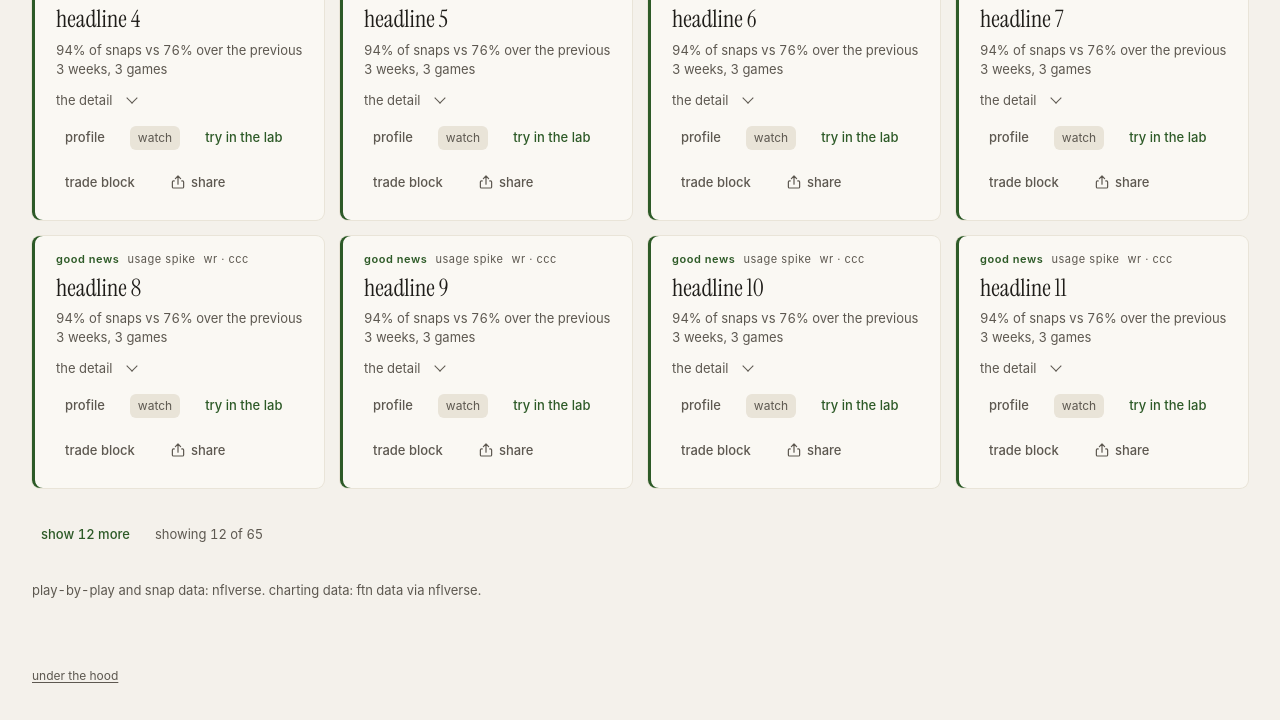
Test: a long feed › draws 12 cards and grows on request, keeping the engine’s order
(page scrolled)
Expected: the text "showing 12 of 65" is shown, [155, 525, 263, 544]
Click the button "show 12 more".
click(85, 535)  # box [32, 520, 139, 549]
(page scrolled)
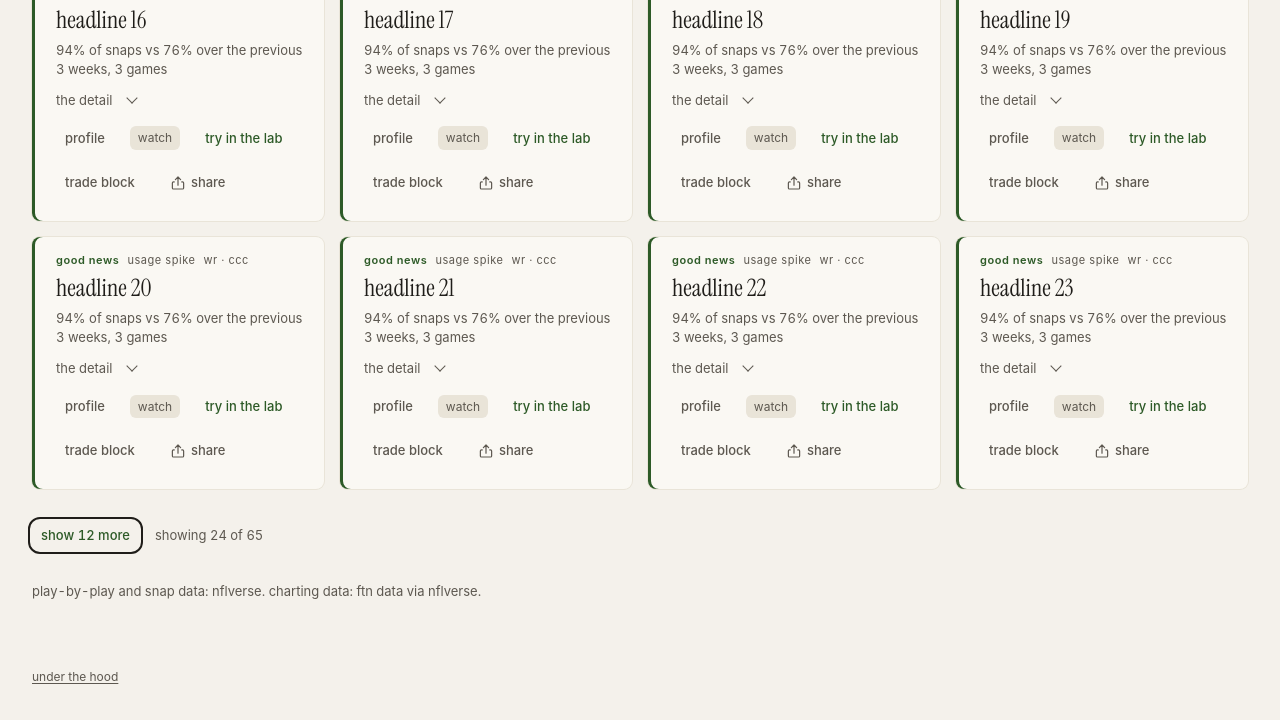
Click the button "show 12 more".
click(85, 535)  # box [32, 521, 139, 550]
(page scrolled)
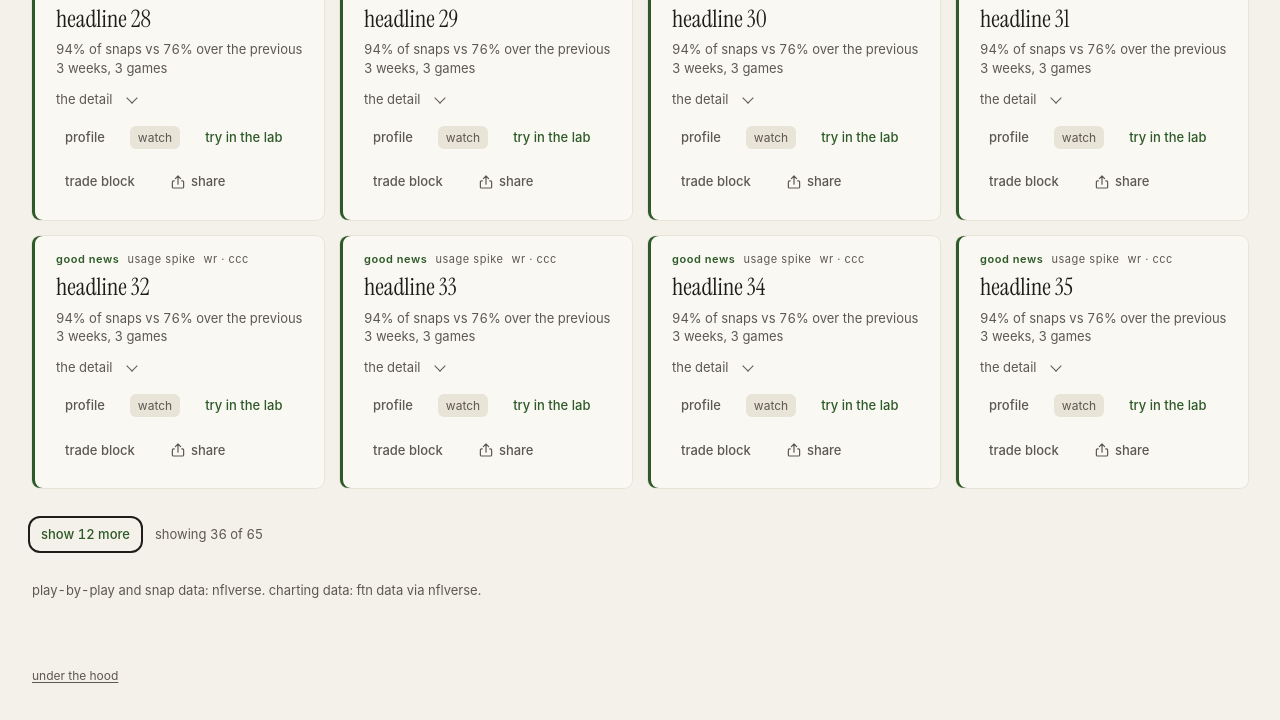
Click the button "show 12 more".
click(85, 534)  # box [32, 520, 139, 549]
(page scrolled)
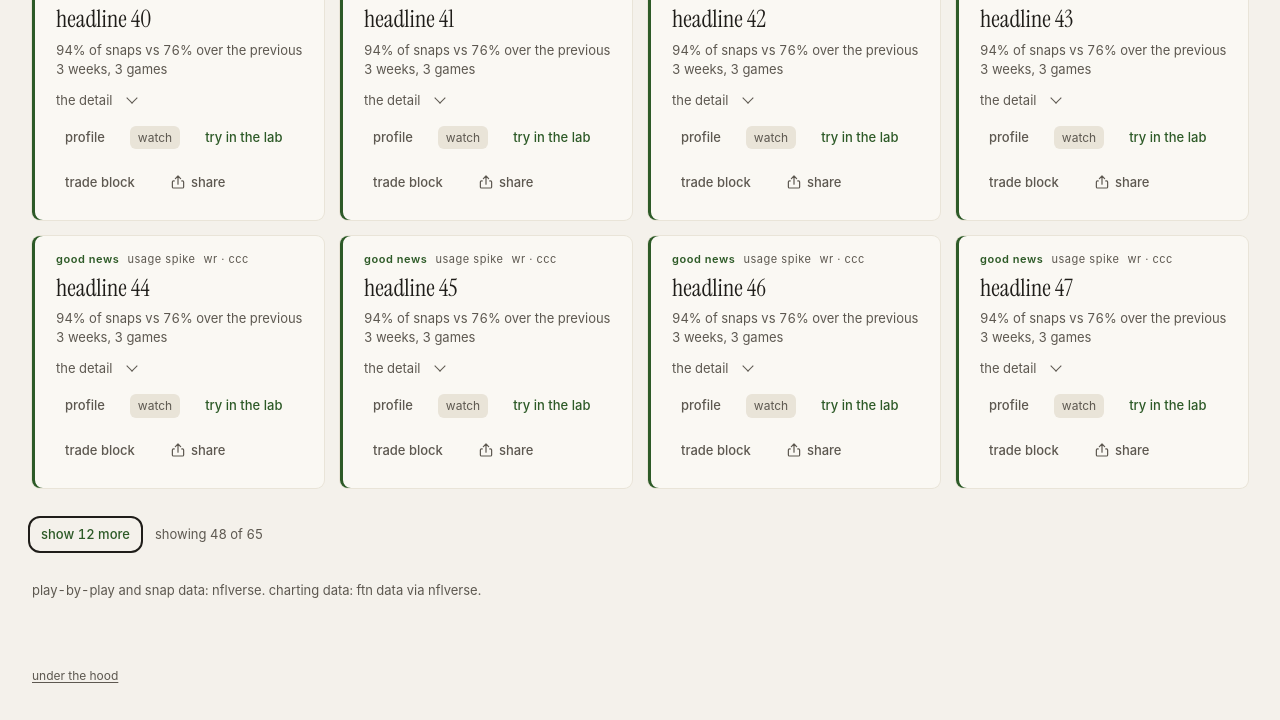
Click the button "show 12 more".
click(85, 535)  # box [32, 520, 139, 549]
(page scrolled)
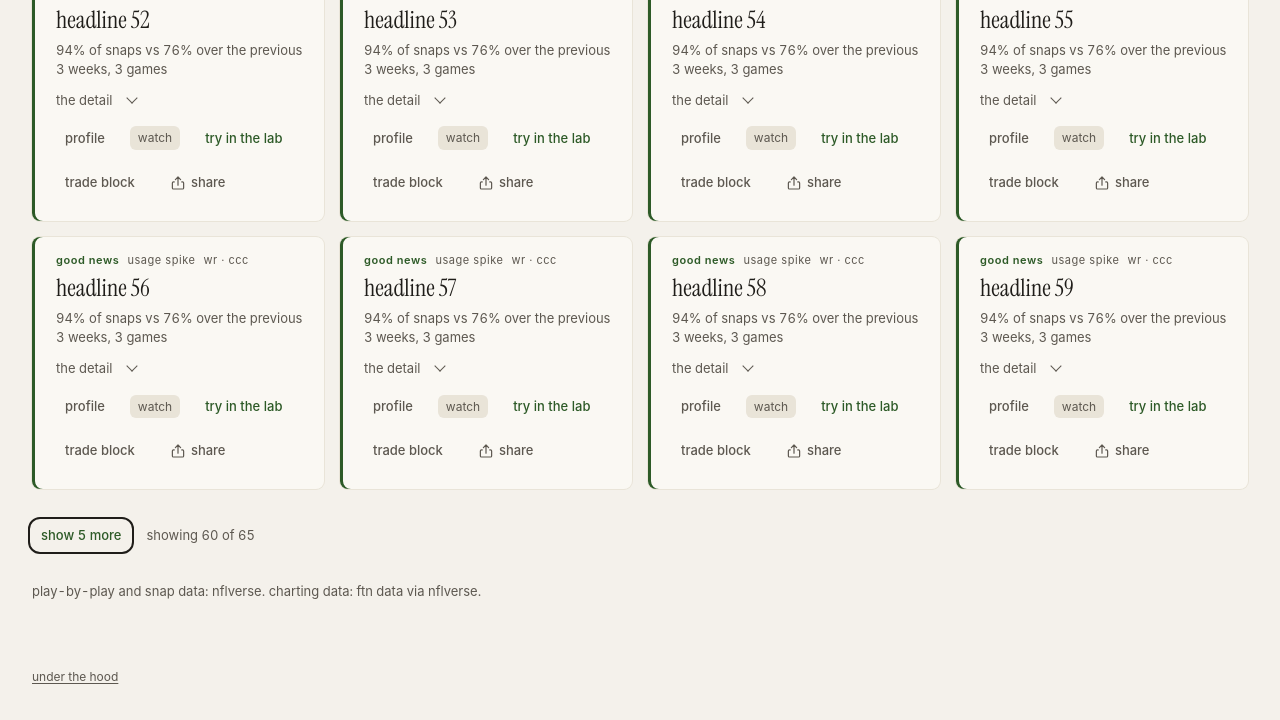
Click the button "show 5 more".
click(81, 535)  # box [32, 521, 130, 550]
(page scrolled)
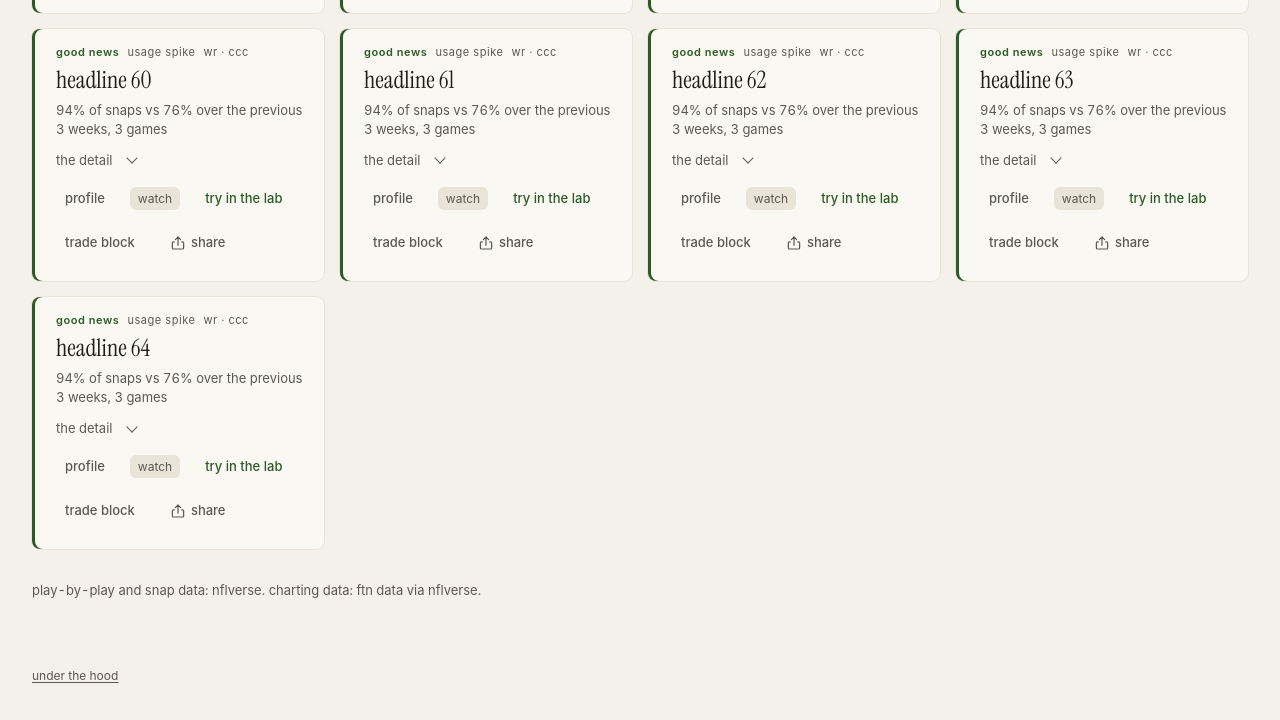
Now the button "more" is gone
